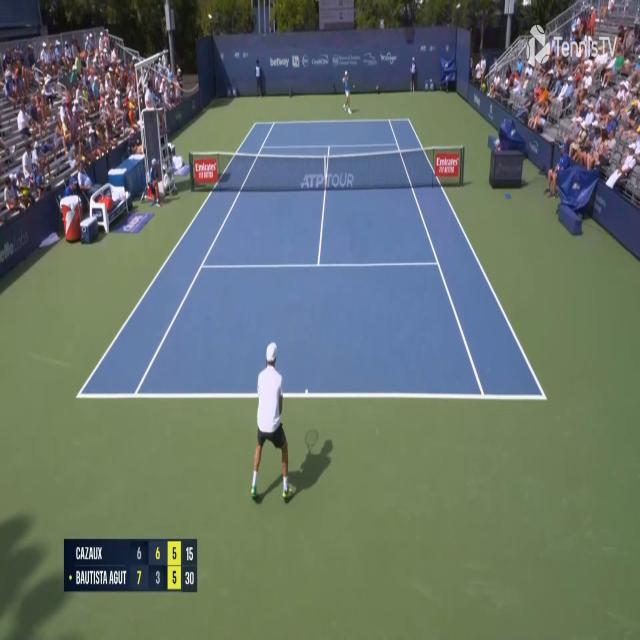tennis-player: (247, 338, 298, 512), (342, 68, 354, 115)
